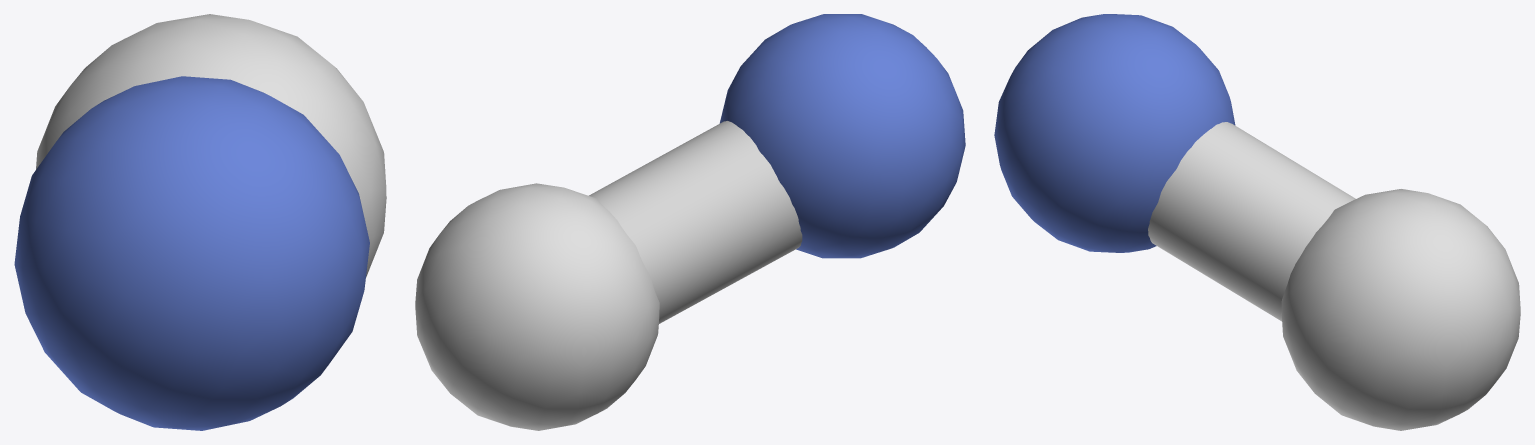
The model's file is HCL.glb.
The picture shows the model from 3 angles, left to right: view 1: azimuth 30°, elevation 25°; view 2: azimuth 150°, elevation 25°; view 3: azimuth 270°, elevation 25°; orthographic projection. The views are drawn at different scales.
Visible parts, largest first — view 1: Hydrochloric Acid; view 2: Hydrochloric Acid; view 3: Hydrochloric Acid.
Part boxes in pixels (<box>): Hydrochloric Acid: <box>14,14,386,430</box>; Hydrochloric Acid: <box>415,14,965,430</box>; Hydrochloric Acid: <box>994,14,1520,430</box>.
Bounding box in the file's own units: 1.09 × 0.9139 × 1.37.
